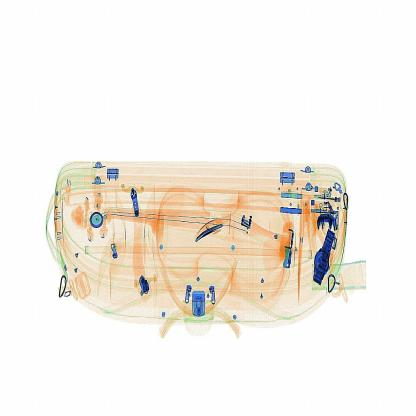pliers: (184, 212, 238, 247)
